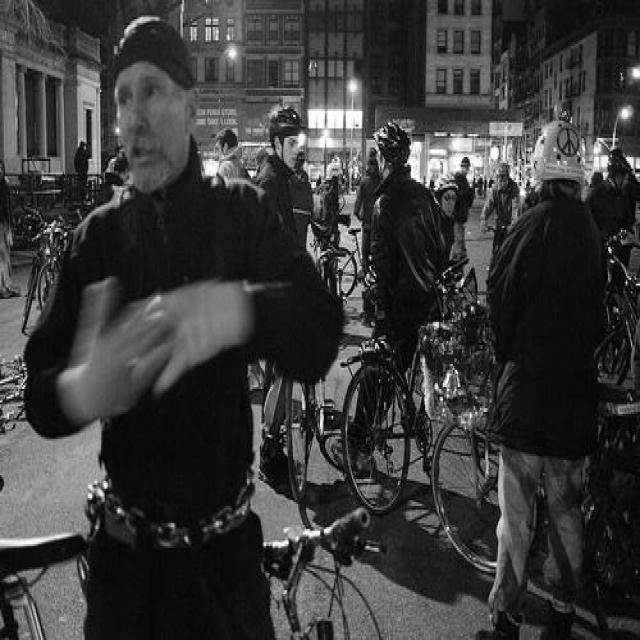Non-Gloves: (68, 273, 165, 413), (140, 289, 256, 395)
